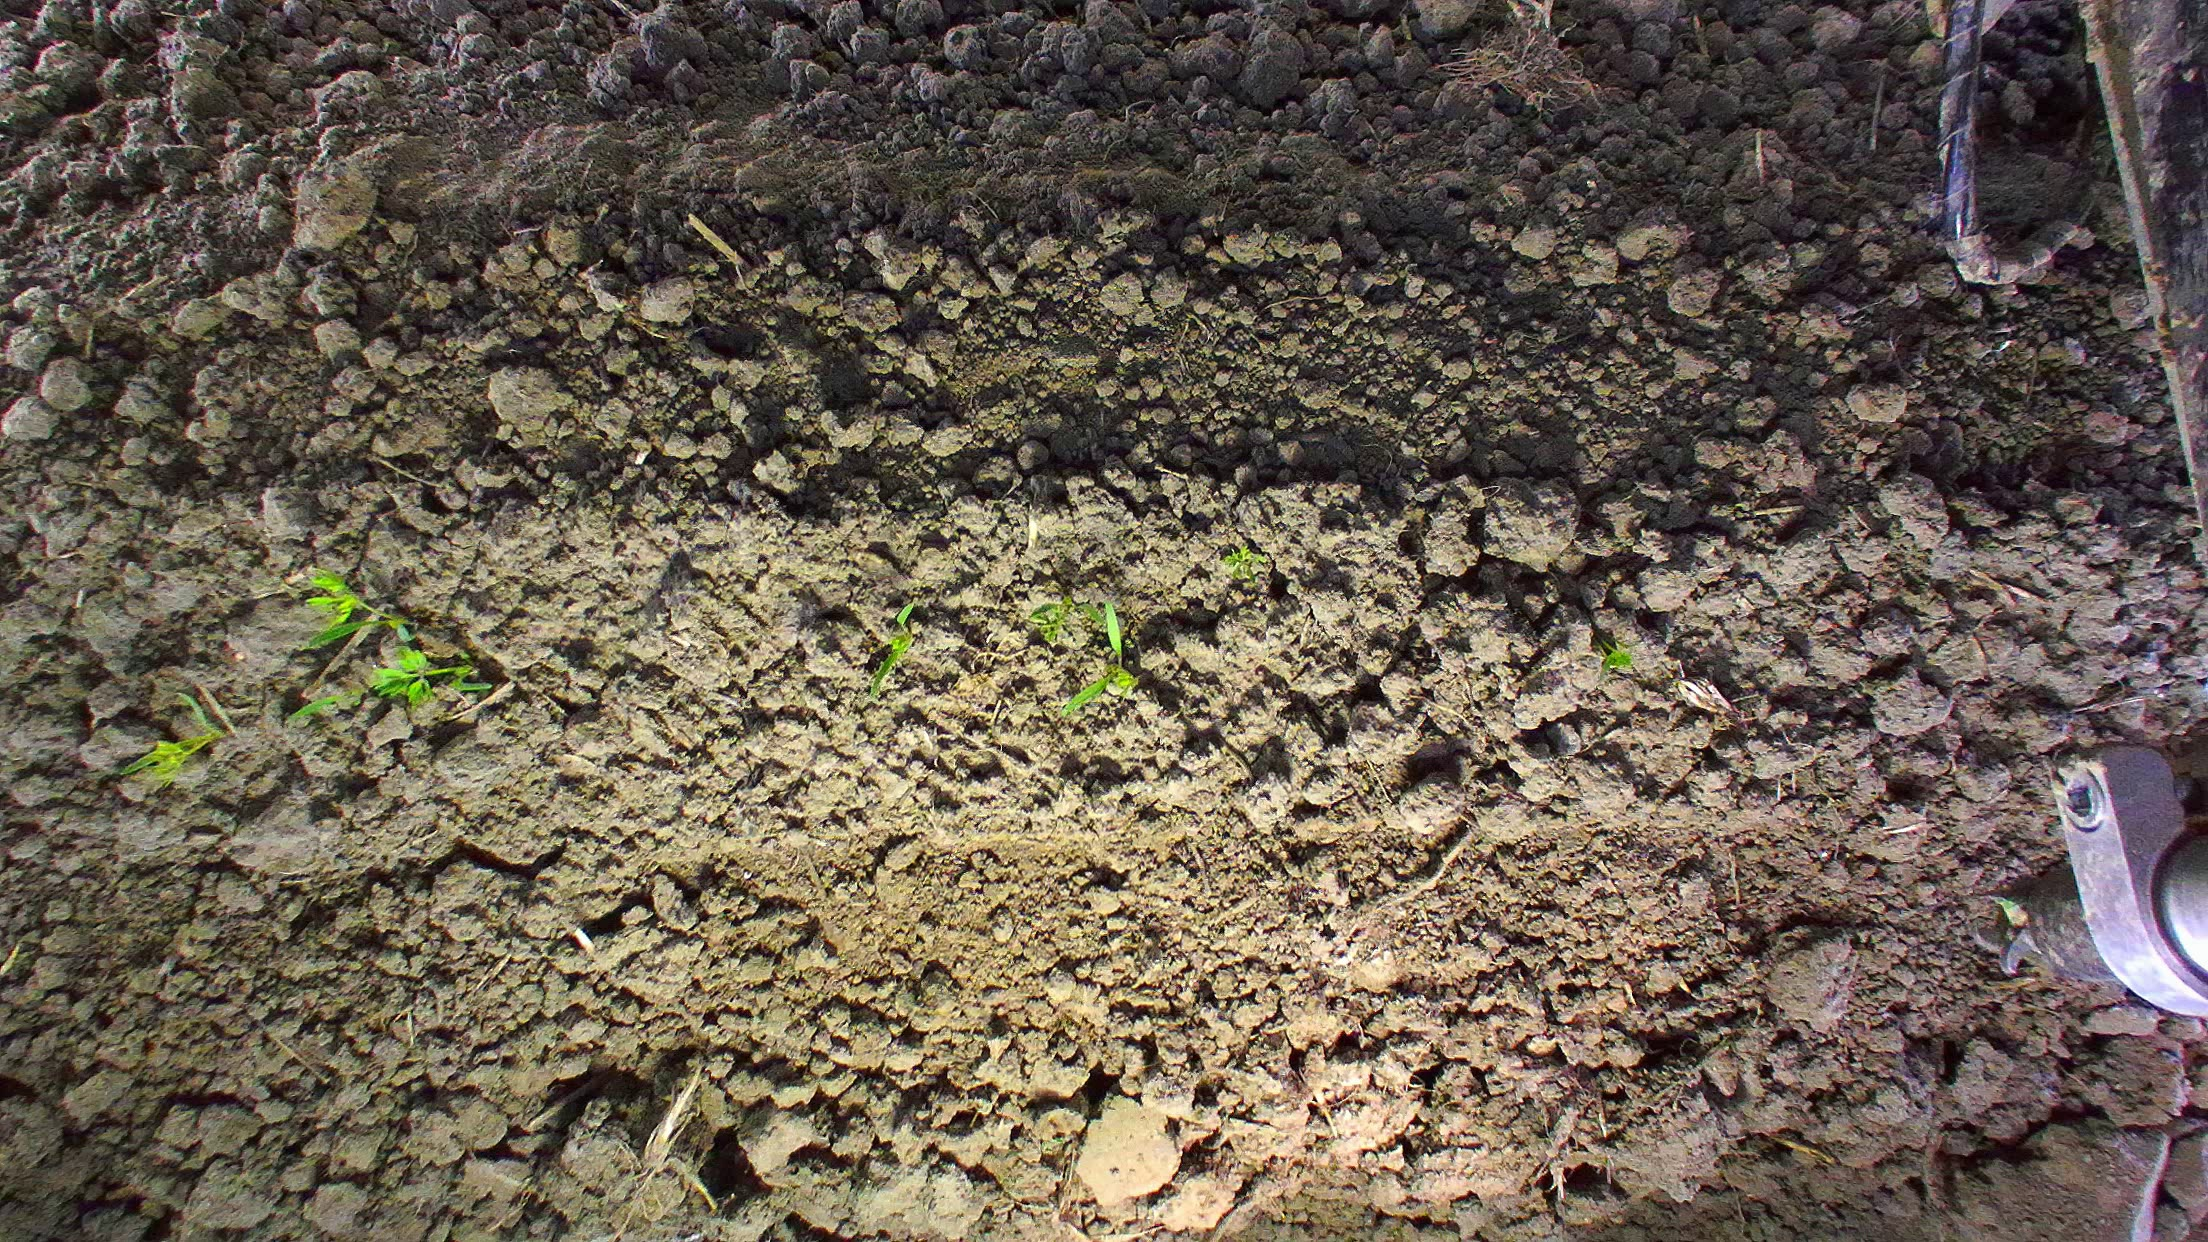Crop: (300, 566, 496, 713), (112, 690, 224, 789), (1027, 594, 1134, 660), (1057, 666, 1137, 719), (271, 684, 364, 726), (866, 632, 913, 701), (1221, 543, 1266, 579), (1600, 638, 1635, 675)
